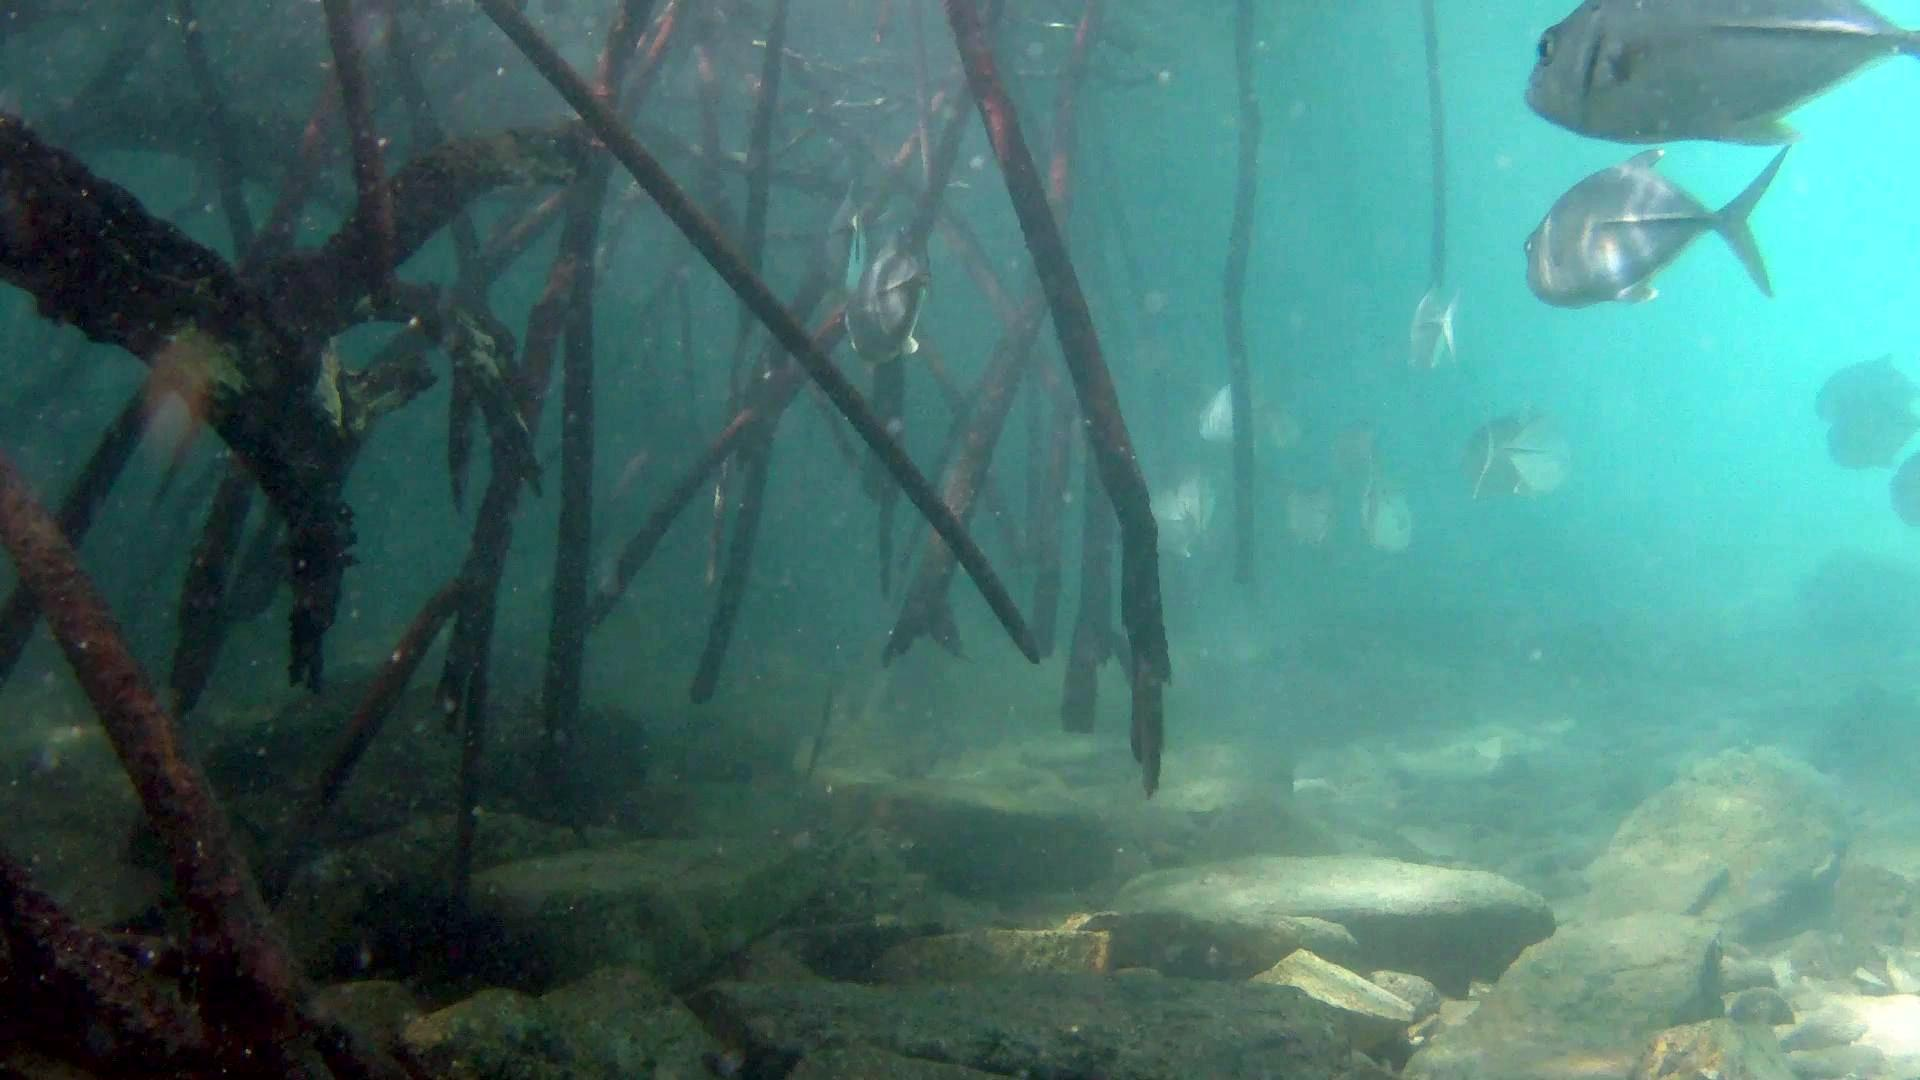caranx: (1525, 0, 1920, 150), (1510, 135, 1787, 313)
